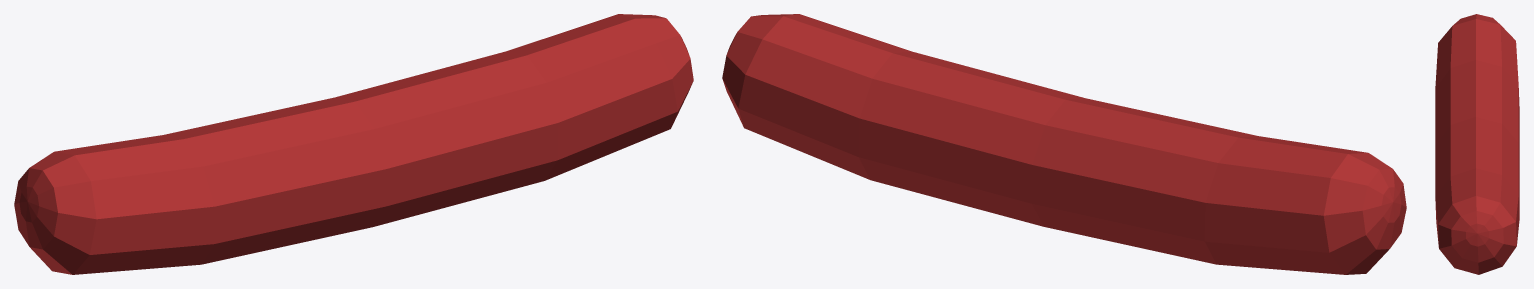
File: Hotdog_Projectile.fbx
3 renders of one model, left to right at view 1: azimuth 30°, elevation 25°; view 2: azimuth 150°, elevation 25°; view 3: azimuth 270°, elevation 25°, orthographic. The views are drawn at different scales.
Visible parts, largest first — view 1: Cylinder.001; view 2: Cylinder.001; view 3: Cylinder.001.
Boxes of the visible parts, left/top/right/bottom form: Cylinder.001: left=14, top=14, right=693, bottom=274; Cylinder.001: left=722, top=14, right=1406, bottom=274; Cylinder.001: left=1435, top=14, right=1519, bottom=274.
Bounding box in the file's own units: 12.78 × 2.2 × 2.56.
